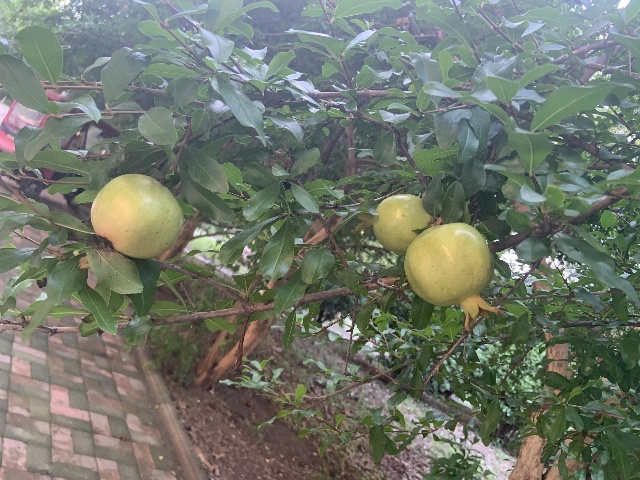mid-growth: (403, 222, 504, 332), (77, 173, 184, 269), (351, 193, 433, 254)
